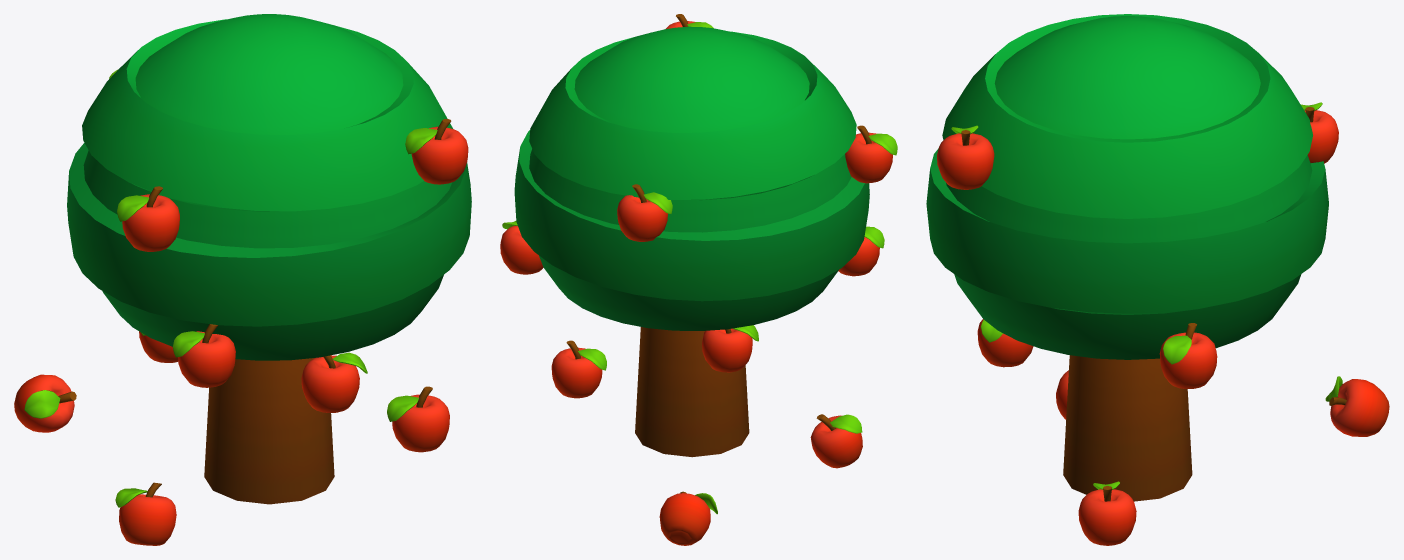
Rendered from Apple Tree.glb.
3 renders of one model, left to right at view 1: azimuth 30°, elevation 25°; view 2: azimuth 150°, elevation 25°; view 3: azimuth 270°, elevation 25°, orthographic. The views are drawn at different scales.
Visible parts, largest first — view 1: Farm_Crop_Tree_02; view 2: Farm_Crop_Tree_02; view 3: Farm_Crop_Tree_02.
Boxes of the visible parts, x1,y1,x2,y2 form: Farm_Crop_Tree_02: (14, 14, 471, 545); Farm_Crop_Tree_02: (500, 14, 897, 545); Farm_Crop_Tree_02: (926, 14, 1389, 545).
Bounding box in the file's own units: 2.15 × 2.5 × 2.29.
1 material, 1 textured.
